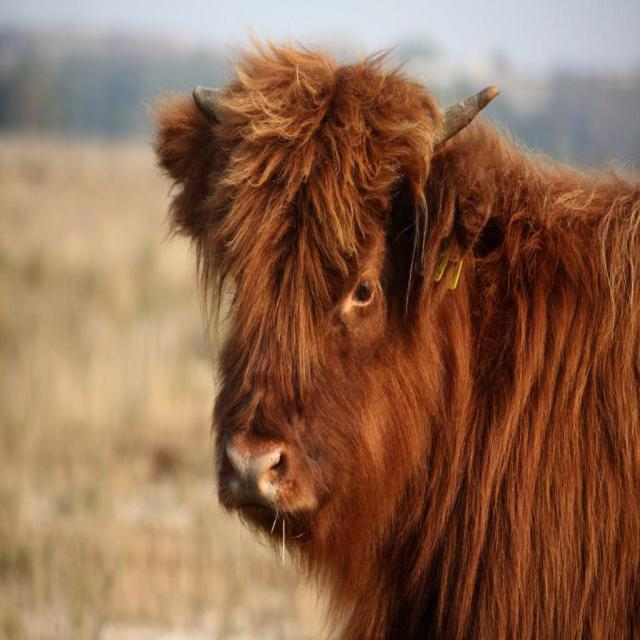Deer: (145, 36, 640, 640)
